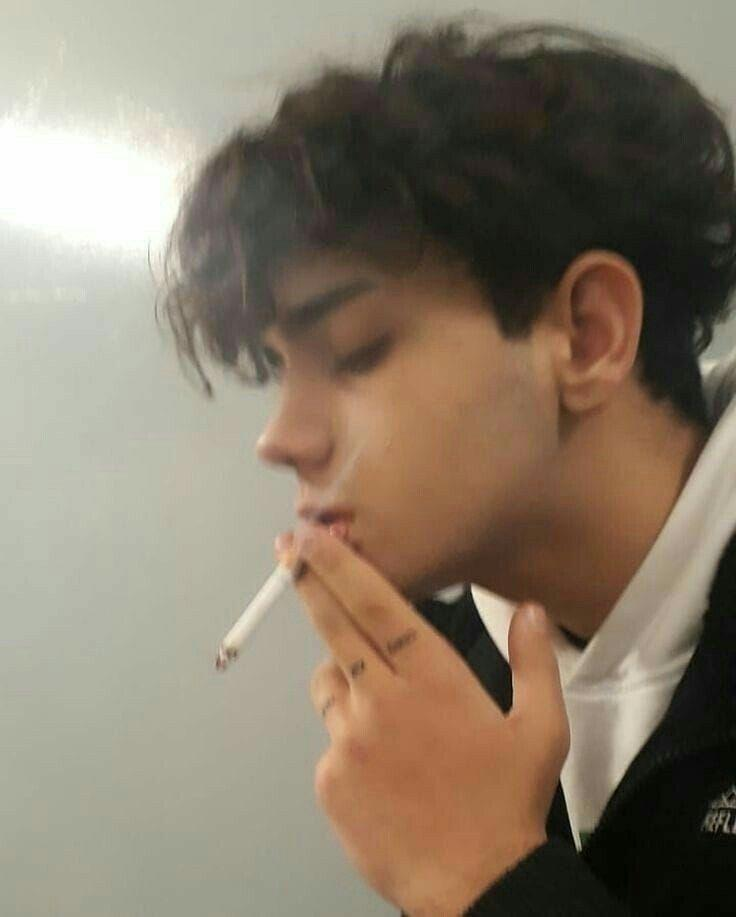cigarette: (216, 562, 306, 671)
